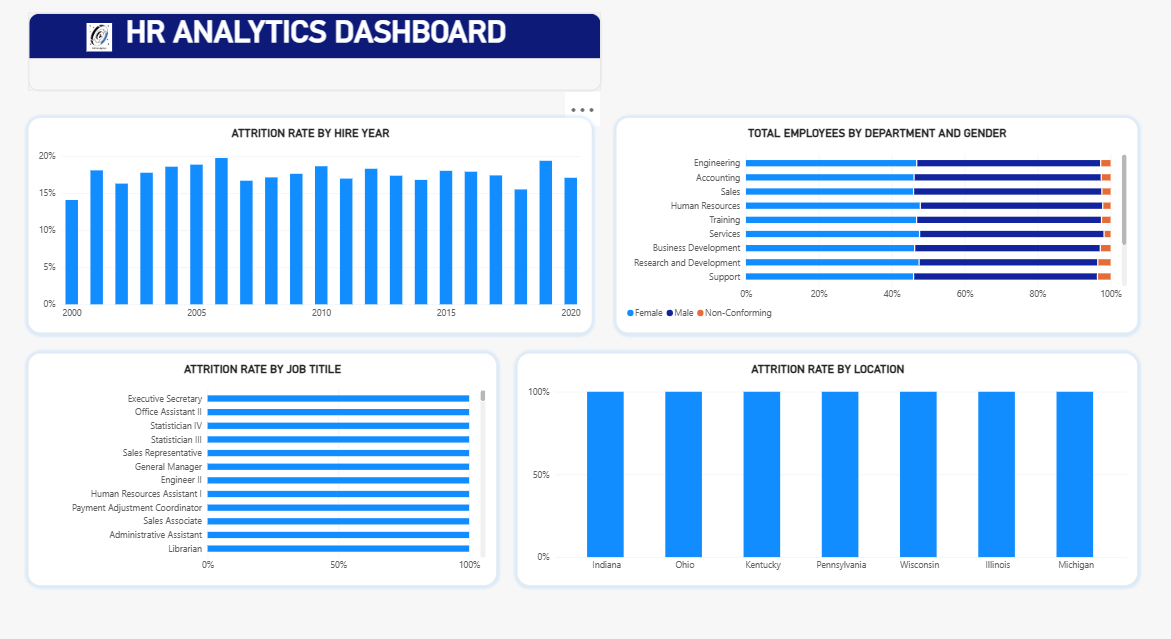

The dashboard page shown, as its layout file describes it:
{"tool":"powerbi","page":{"name":"Page 3","canvas":[1920,1080],"ordinal":2},"visuals":[{"type":"textbox","title":"HR ANALYTICS DASHBOARD","box":[95,30,912.5,125],"z":0},{"type":"image","box":[160,47.5,97.5,45],"z":1000},{"type":"hundredPercentStackedColumnChart","title":"ATTRITION RATE BY LOCATION","fields":{"Category":["project_hr_analytics HR.location_state"],"Y":["project_hr_analytics HR.Attrition Rate"]},"box":[872.5,572.5,987.5,370],"z":2000},{"type":"hundredPercentStackedBarChart","title":"ATTRITION RATE BY JOB TITILE","fields":{"Category":["project_hr_analytics HR.jobtitle"],"Y":["project_hr_analytics HR.Attrition Rate"]},"box":[95,572.5,745,370],"z":3000},{"type":"hundredPercentStackedBarChart","title":"TOTAL EMPLOYEES BY DEPARTMENT AND GENDER","fields":{"Category":["project_hr_analytics HR.department"],"Series":["project_hr_analytics HR.gender"],"Y":["project_hr_analytics HR.TotalEmployees"]},"box":[1030,197.5,830,342.5],"z":4000},{"type":"columnChart","title":"ATTRITION RATE BY HIRE YEAR","fields":{"Category":["project_hr_analytics HR.Hire Year"],"Y":["project_hr_analytics HR.Attrition Rate"]},"box":[95,197.5,897.5,342.5],"z":5000}]}

Visuals, with their boxes on the page's 1920x1080 design canvas (x1, y1, x2, y2). These are canvas units, not pixel positions in the 1171x639 screenshot, which may show the page scaled, cropped or inside an application window:
"HR ANALYTICS DASHBOARD" textbox: left=95, top=30, right=1008, bottom=155
image: left=160, top=48, right=258, bottom=92
"ATTRITION RATE BY LOCATION" hundredPercentStackedColumnChart: left=872, top=572, right=1860, bottom=942
"ATTRITION RATE BY JOB TITILE" hundredPercentStackedBarChart: left=95, top=572, right=840, bottom=942
"TOTAL EMPLOYEES BY DEPARTMENT AND GENDER" hundredPercentStackedBarChart: left=1030, top=198, right=1860, bottom=540
"ATTRITION RATE BY HIRE YEAR" columnChart: left=95, top=198, right=992, bottom=540
